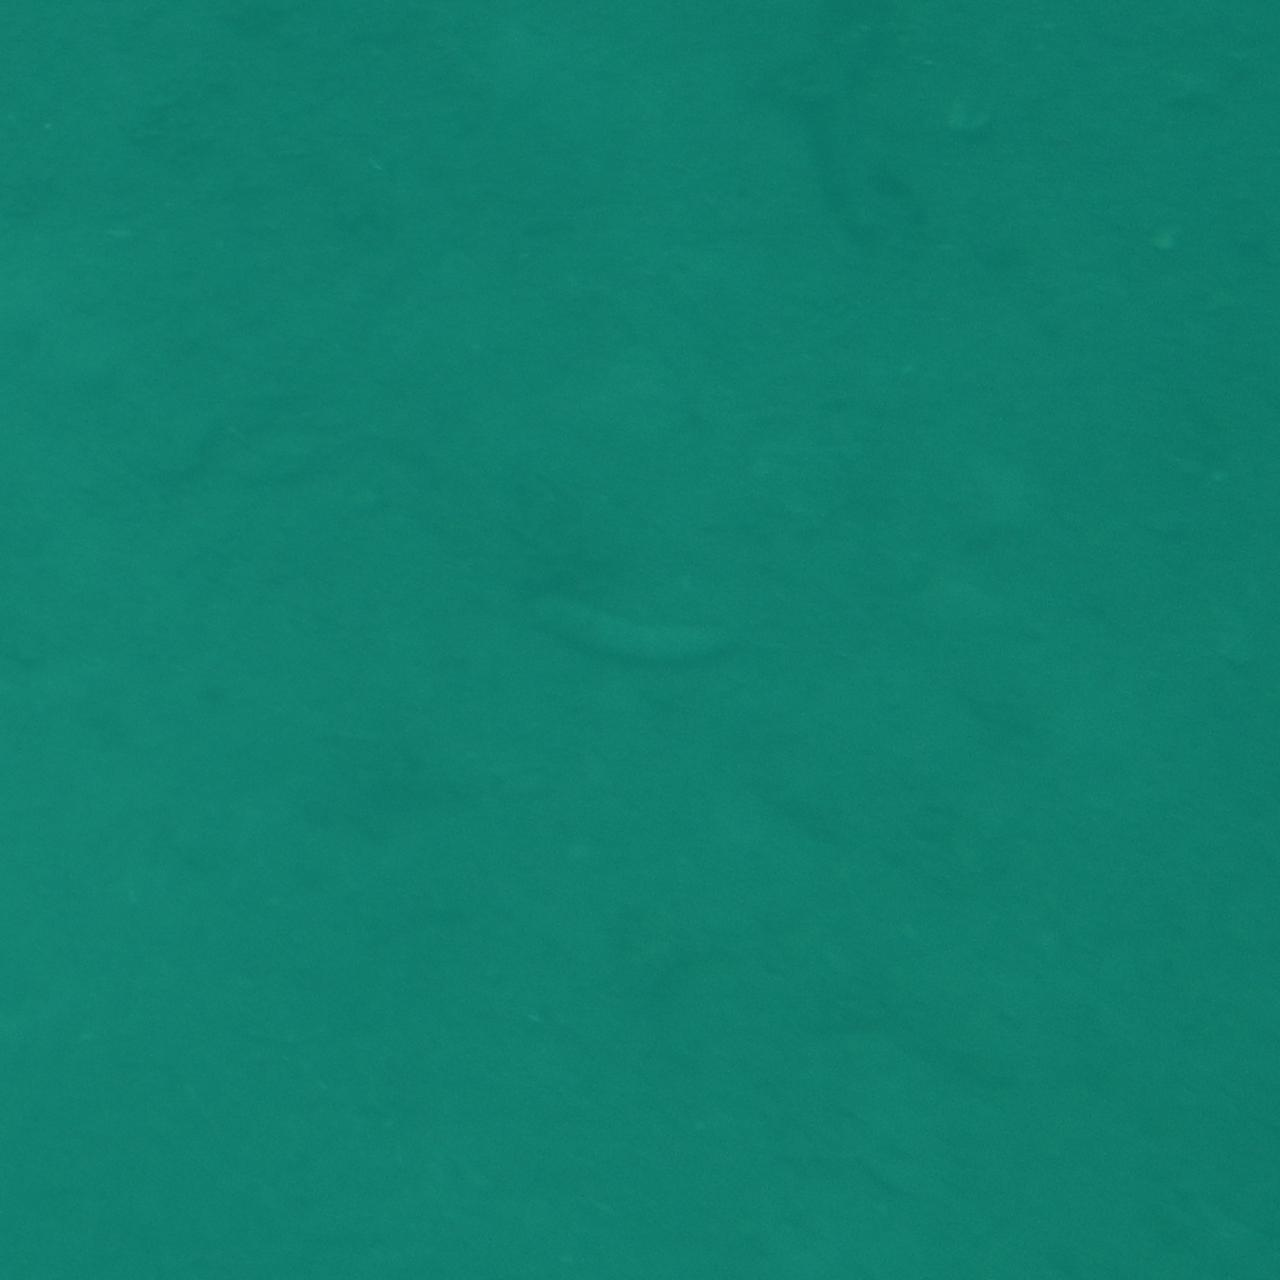Holothuria tubulosa: (512, 571, 768, 709)
